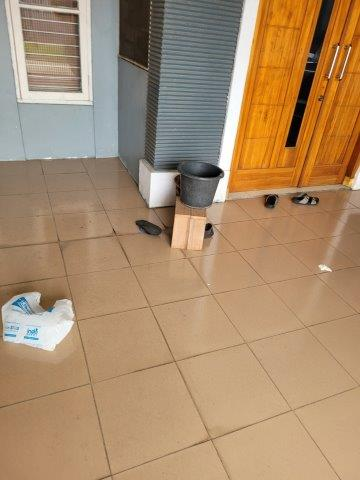plastik: (1, 290, 75, 353)
